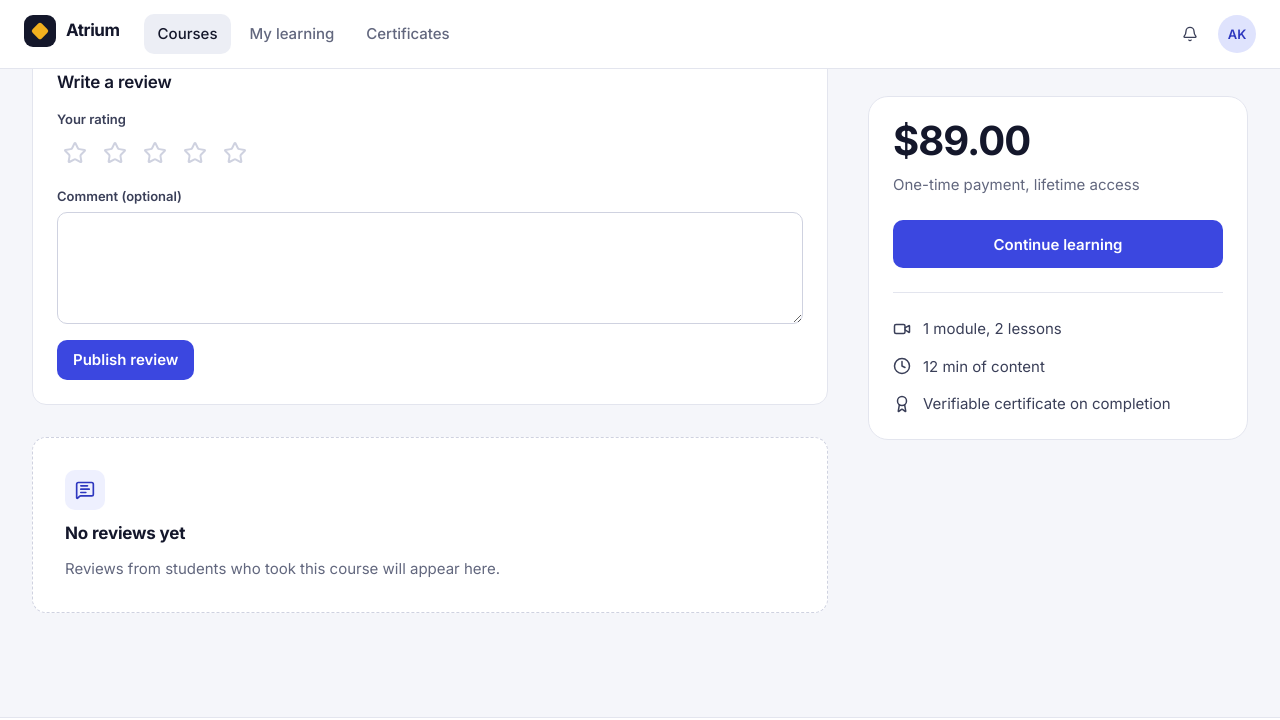
Test case: course reviews › validates the rating before sending
The width and height of the screenshot is (1280, 720).
(page scrolled)
Click the button "Publish review".
click(126, 360)  # box x1=57 y1=340 x2=194 y2=380
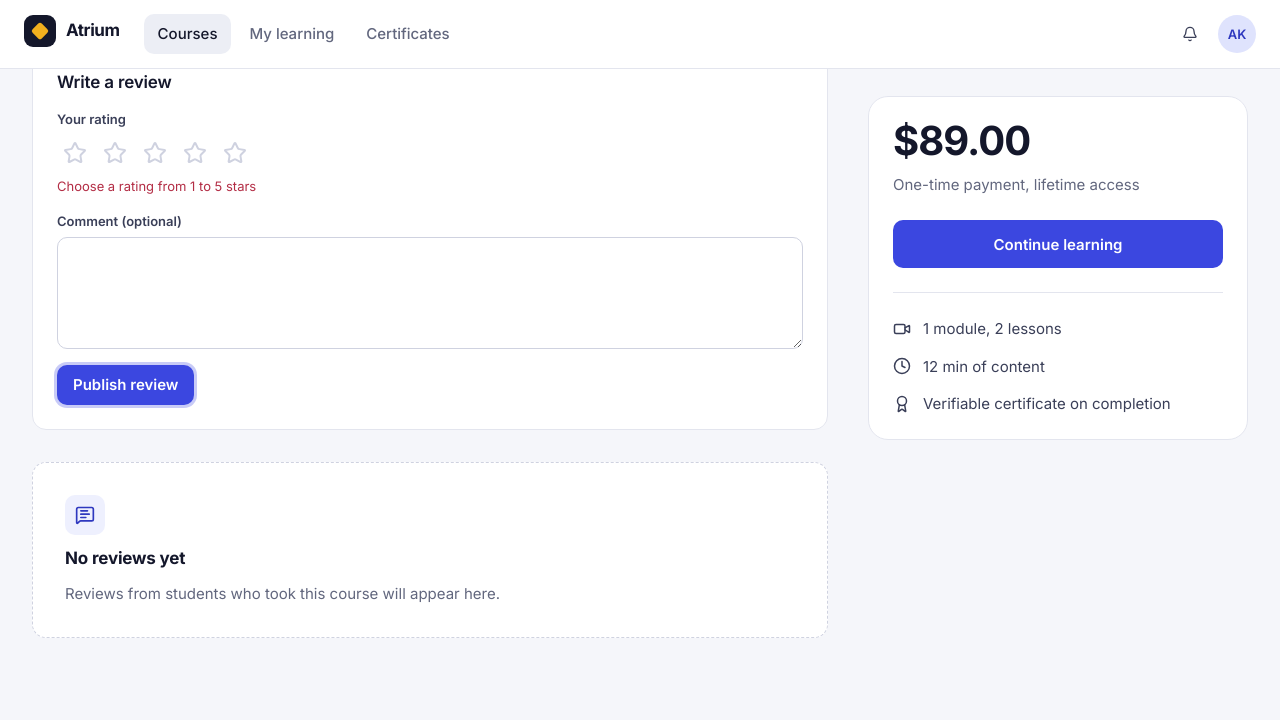
Check: the text "Choose a rating from 1 to 5 stars" is shown, box x1=57 y1=178 x2=256 y2=194
